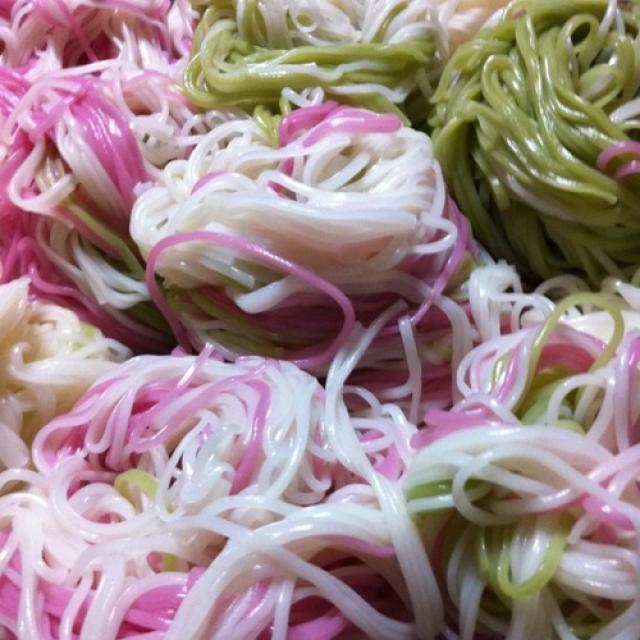面条主食: (11, 8, 626, 626)
